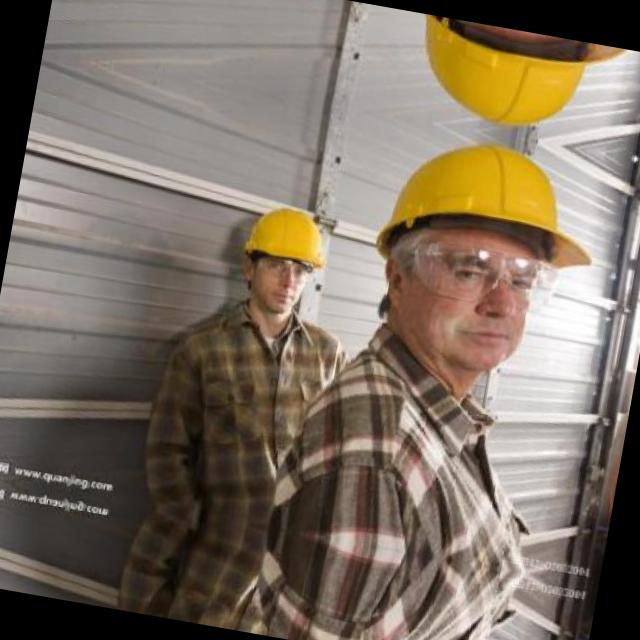helmet: (338, 114, 611, 406), (381, 9, 630, 156), (220, 181, 346, 336)
